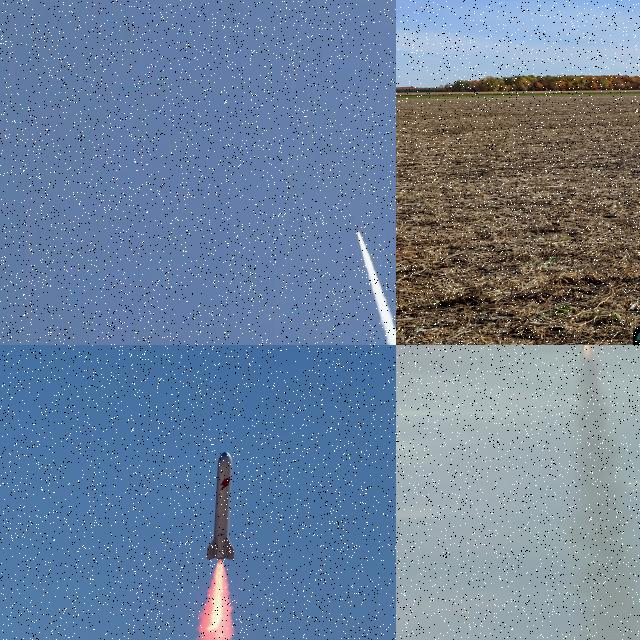Rocket: (194, 448, 246, 568), (355, 225, 359, 233)
